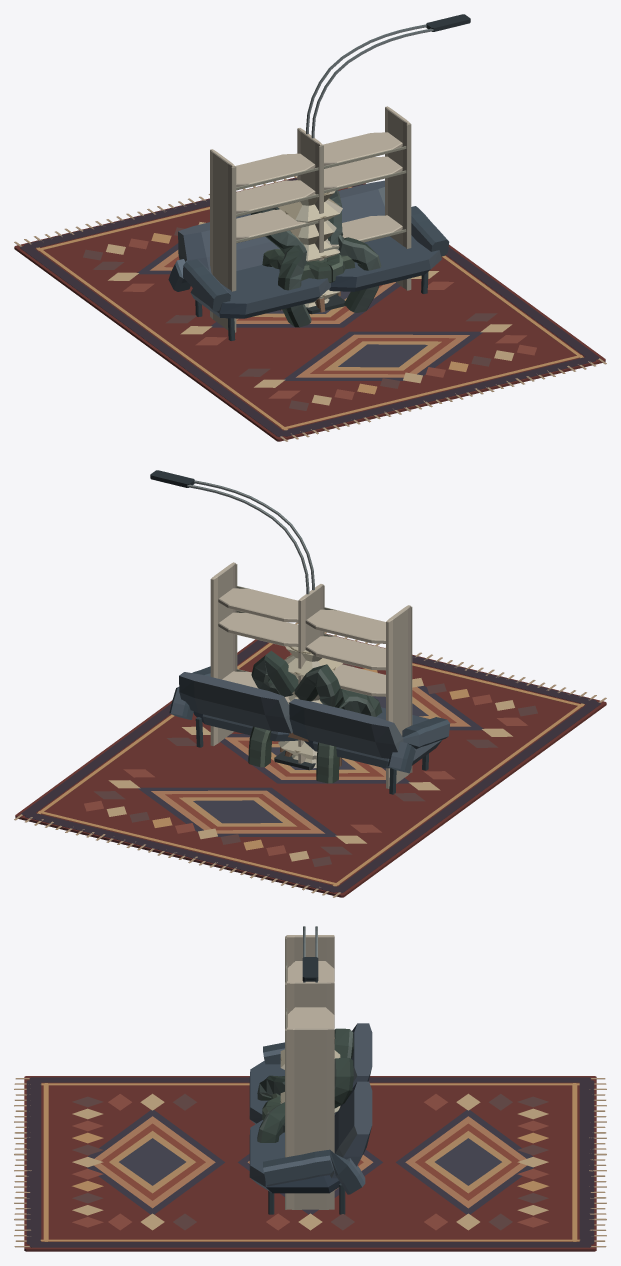
Rendered from furniture-v2.glb.
3 views of the same model, one above another, from view 1: azimuth 30°, elevation 25°; view 2: azimuth 150°, elevation 25°; view 3: azimuth 270°, elevation 25° (orthographic). The views are drawn at different scales.
Visible parts, largest first — view 1: Tapis, CadreOmni, DS450, Ekstrem, Falkland, GestoTerra; view 2: Tapis, CadreOmni, DS450, Ekstrem, GestoTerra, Falkland; view 3: Tapis, CadreOmni, DS450, Ekstrem, GestoTerra.
Part boxes in pixels (x1,y1,x2,y2): Tapis: [14, 176, 606, 441]; CadreOmni: [210, 106, 411, 332]; DS450: [168, 180, 449, 340]; Ekstrem: [251, 190, 381, 327]; Falkland: [278, 180, 342, 307]; GestoTerra: [306, 14, 470, 314]; Tapis: [14, 622, 606, 897]; CadreOmni: [210, 562, 412, 788]; DS450: [169, 666, 450, 794]; Ekstrem: [248, 650, 382, 783]; GestoTerra: [150, 470, 315, 770]; Falkland: [278, 636, 342, 768]; Tapis: [14, 1076, 606, 1251]; CadreOmni: [285, 935, 334, 1209]; DS450: [249, 1023, 372, 1214]; Ekstrem: [257, 1028, 353, 1142]; GestoTerra: [302, 926, 318, 982].
Bounding box in the file's own units: 3.04 × 2.54 × 4.39.
